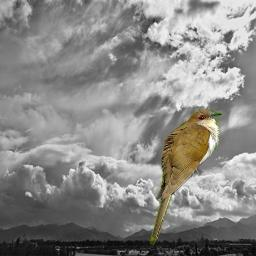Cuckoo: (149, 109, 223, 245)
